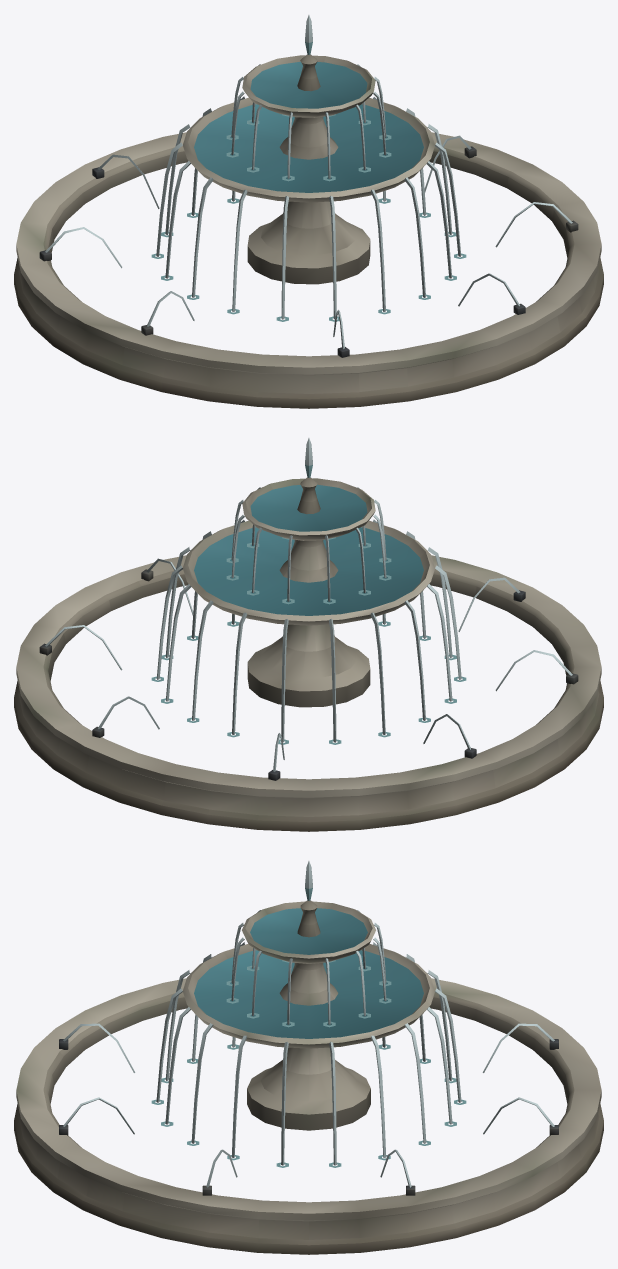
The model's file is fountain.glb.
3 renders of one model, top to bottom at view 1: azimuth 30°, elevation 25°; view 2: azimuth 150°, elevation 25°; view 3: azimuth 270°, elevation 25°, orthographic.
Visible parts, largest first — view 1: Fountain; view 2: Fountain; view 3: Fountain.
Boxes of the visible parts, x1,y1,x2,y2 form: Fountain: [14, 15, 603, 408]; Fountain: [14, 438, 603, 831]; Fountain: [14, 861, 603, 1254].
Bounding box in the file's own units: 10 × 5.05 × 10.
